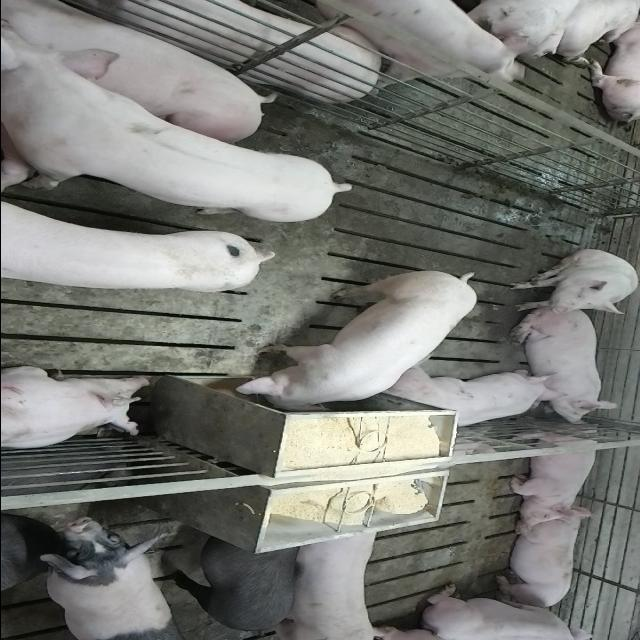Feeding: (230, 266, 478, 410)
Lateral_lying: (0, 0, 270, 143), (21, 0, 374, 100)
Sitting: (506, 250, 638, 316)
Standing: (2, 43, 354, 217), (0, 204, 270, 296), (298, 0, 534, 88), (33, 514, 174, 638), (166, 526, 305, 634), (272, 521, 384, 637), (0, 511, 30, 606)
Sternal_lying: (0, 367, 156, 451), (508, 312, 616, 424), (378, 371, 564, 432), (417, 584, 605, 638), (502, 424, 602, 524), (491, 510, 588, 610)
